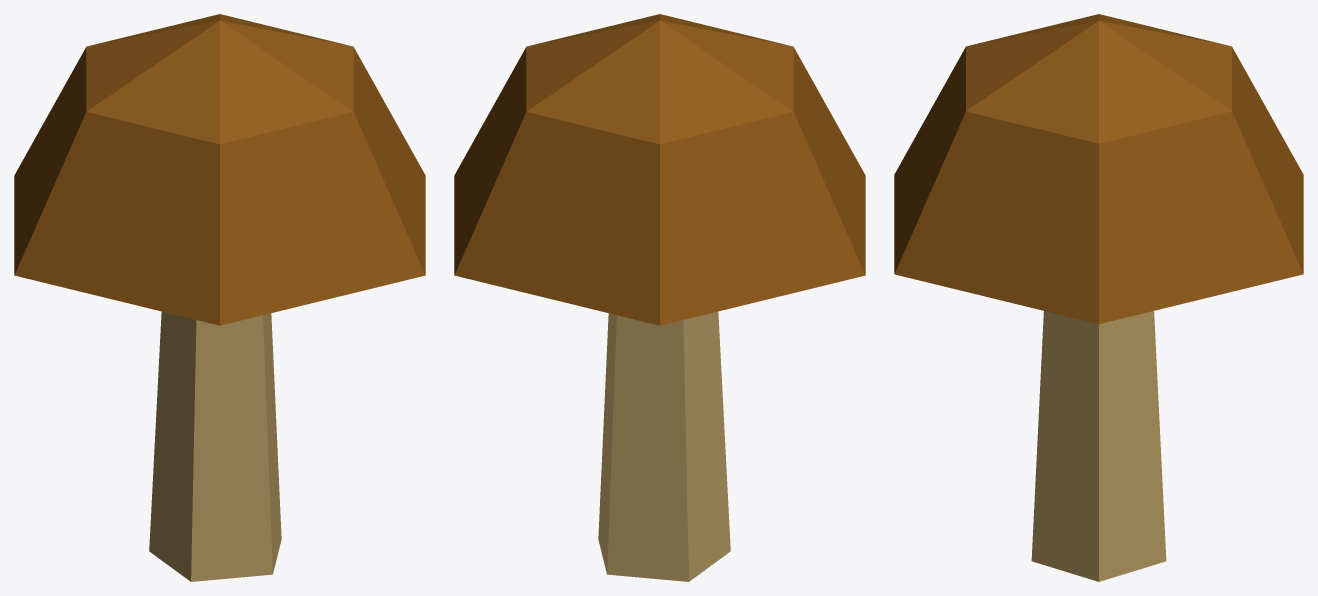
Rendered from Mushroom_Large_02.fbx.
The picture shows the model from 3 angles, left to right: view 1: azimuth 30°, elevation 25°; view 2: azimuth 150°, elevation 25°; view 3: azimuth 270°, elevation 25°; orthographic projection.
Parts seen in each view (by area): view 1: Mushroom_Large_02_Mesh; view 2: Mushroom_Large_02_Mesh; view 3: Mushroom_Large_02_Mesh.
Part boxes in pixels (x1,y1,x2,y2): Mushroom_Large_02_Mesh: (14,14,425,581); Mushroom_Large_02_Mesh: (454,14,865,581); Mushroom_Large_02_Mesh: (894,14,1303,581).
Bounding box in the file's own units: 0.4 × 0.4964 × 0.3464.
1 material, 1 textured.
